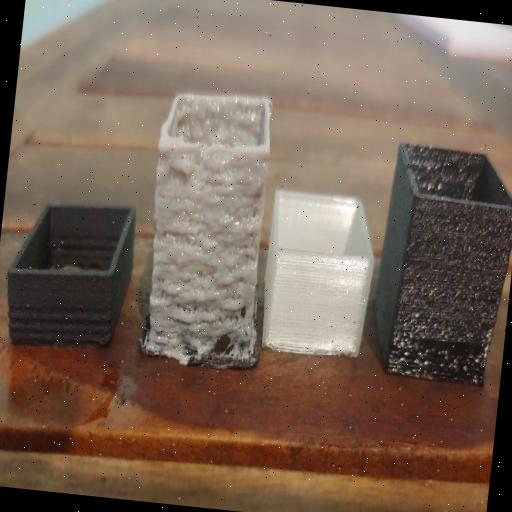blobs: (144, 230, 258, 355), (153, 138, 268, 225), (399, 310, 474, 384)
cracks: (4, 281, 113, 359)
